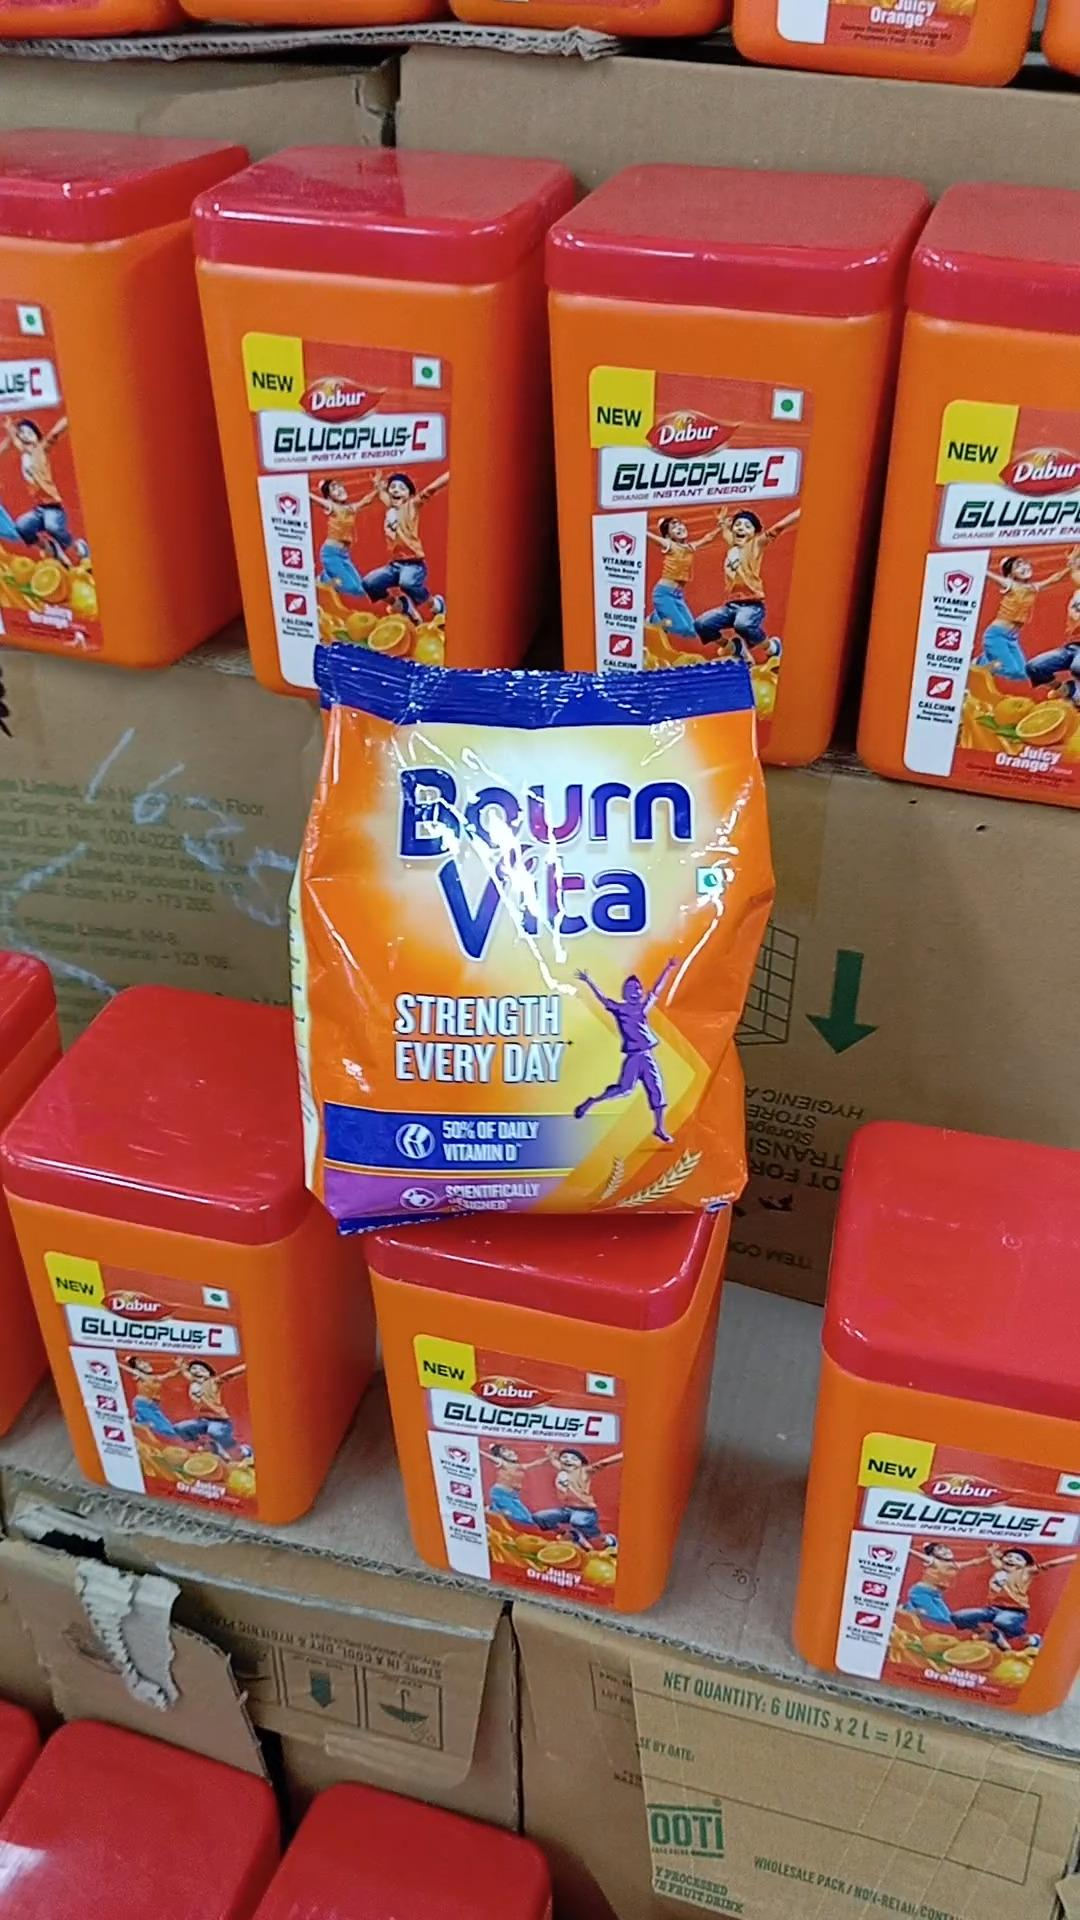BOURN_VITA_500_G_POUCH: (305, 640, 750, 1212)
